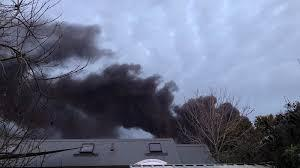smoke: (0, 9, 300, 152)
